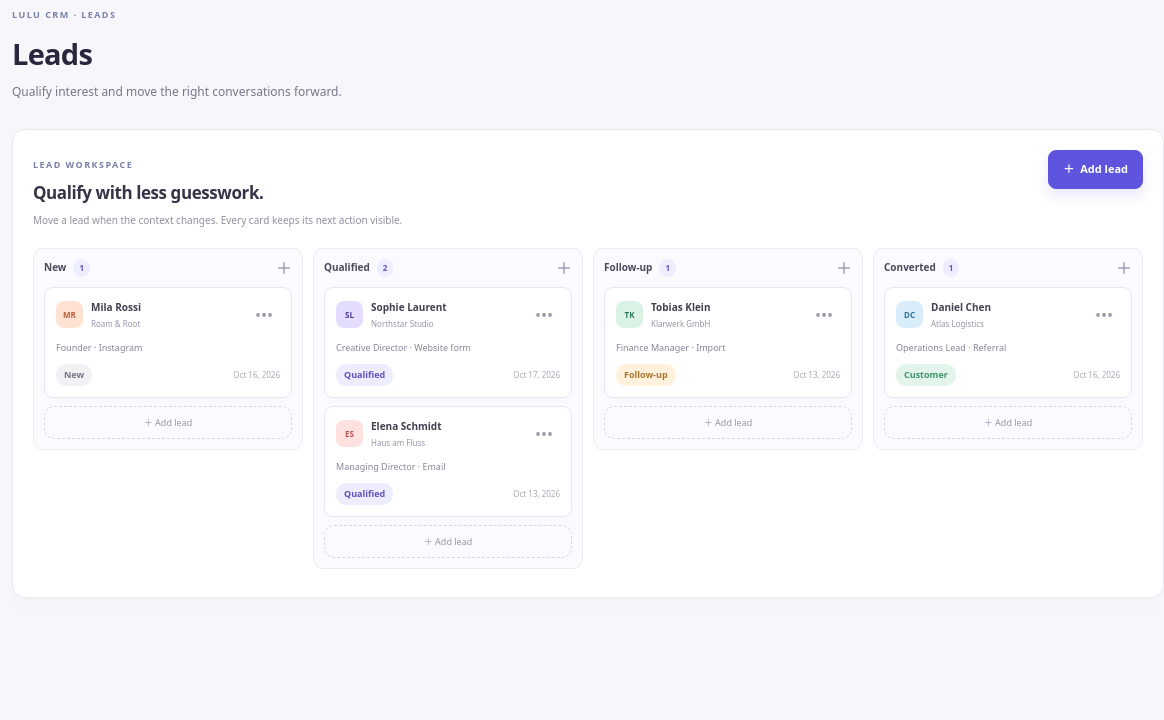
Test: Leads page › moving a lead to Customer converts it (the column is shown as Converted)
This screenshot has width=1164, height=720.
Check: the button "Mila Rossi" is shown, box 91,300 -> 240,315
Click the button "•••" in the row of "Klarwerk GmbH" at point(824, 315), box 808,299 -> 840,331
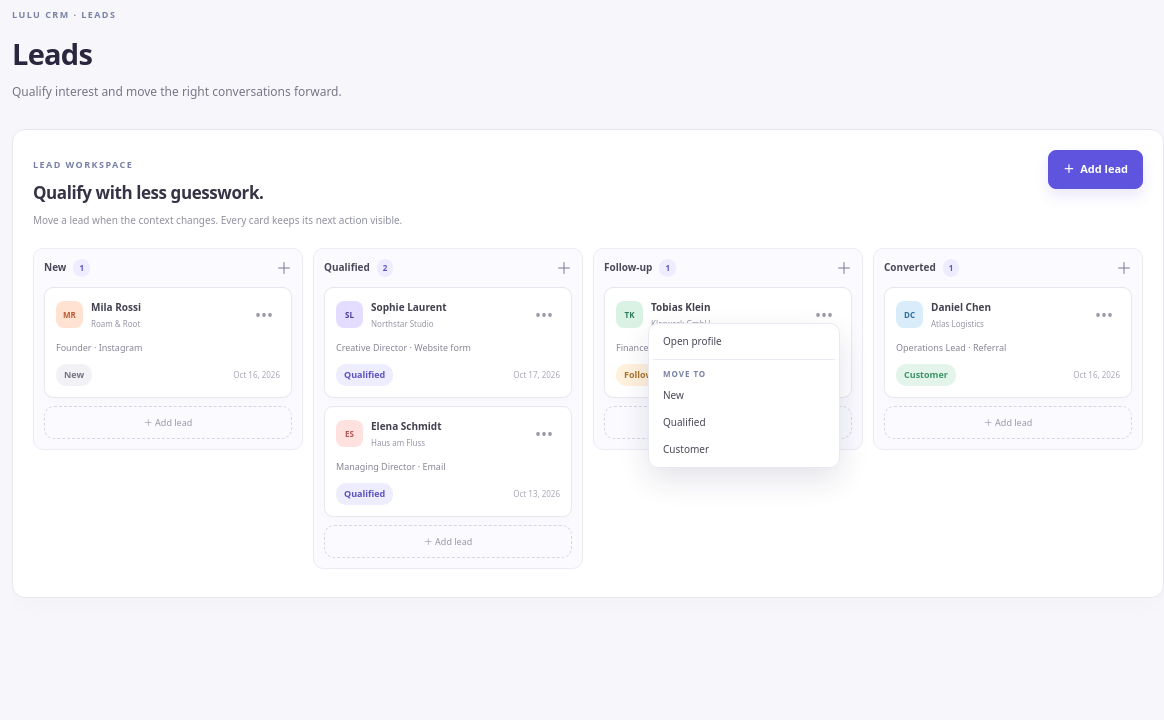
Click the menu item "Customer" at point(744, 449), box 653,436 -> 835,463
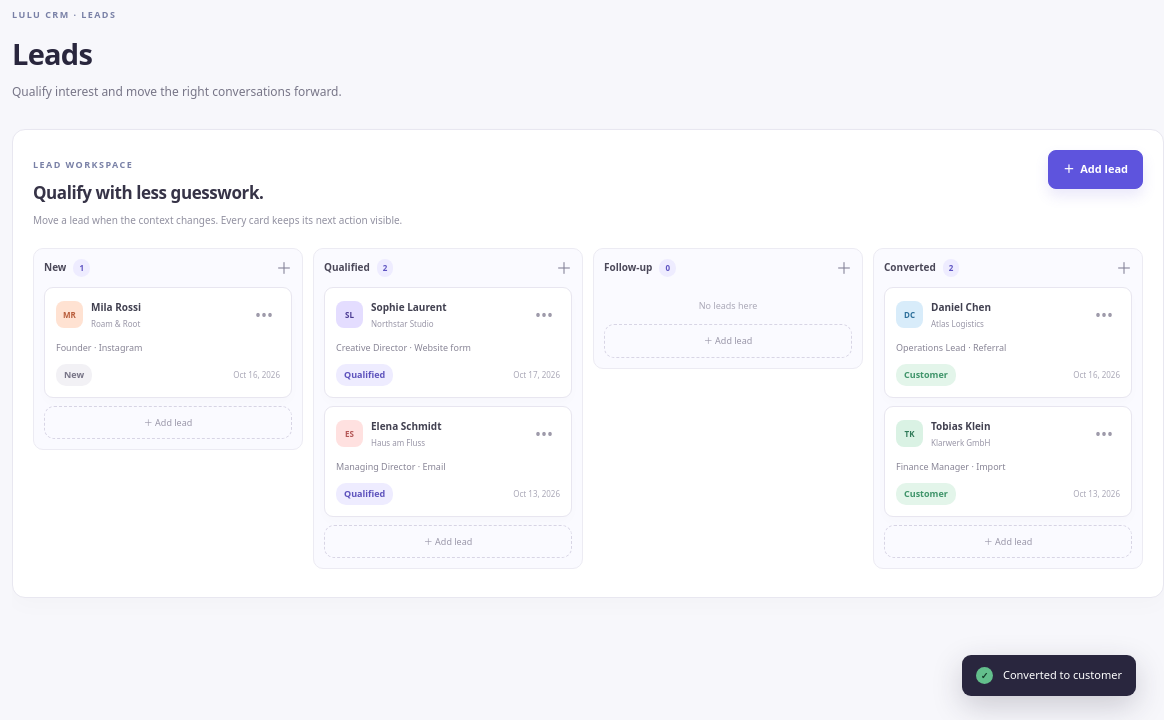
Check: the button "Tobias Klein" is shown, box 931,419 -> 1080,434
Check: the text "Converted to customer" is shown, box 1003,667 -> 1122,682
